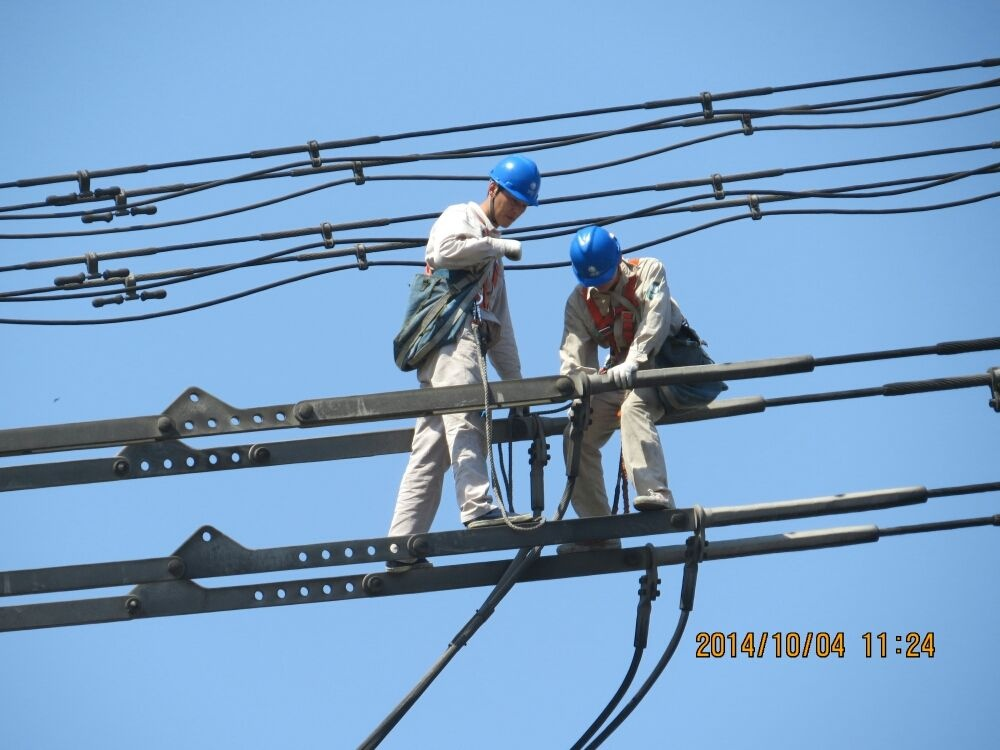blue: (479, 151, 542, 229), (566, 220, 623, 292)
